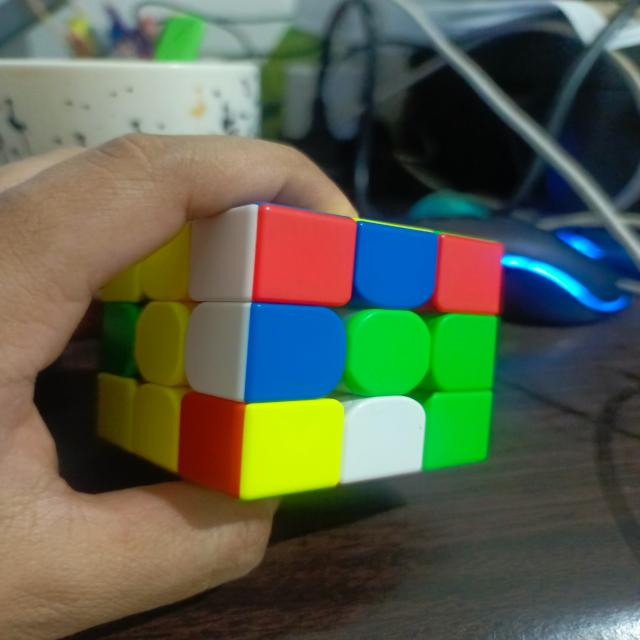rubik: (94, 201, 505, 501)
